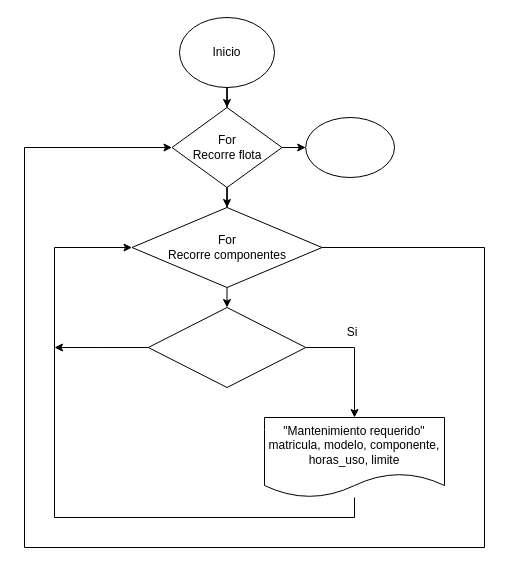
This 510x573 diagram has some shape labels left out. Each missing label, with the centre of its shape:
"Fin" belongs at point 349,147.
"Si horas_uso > limite" belongs at point 226,347.
